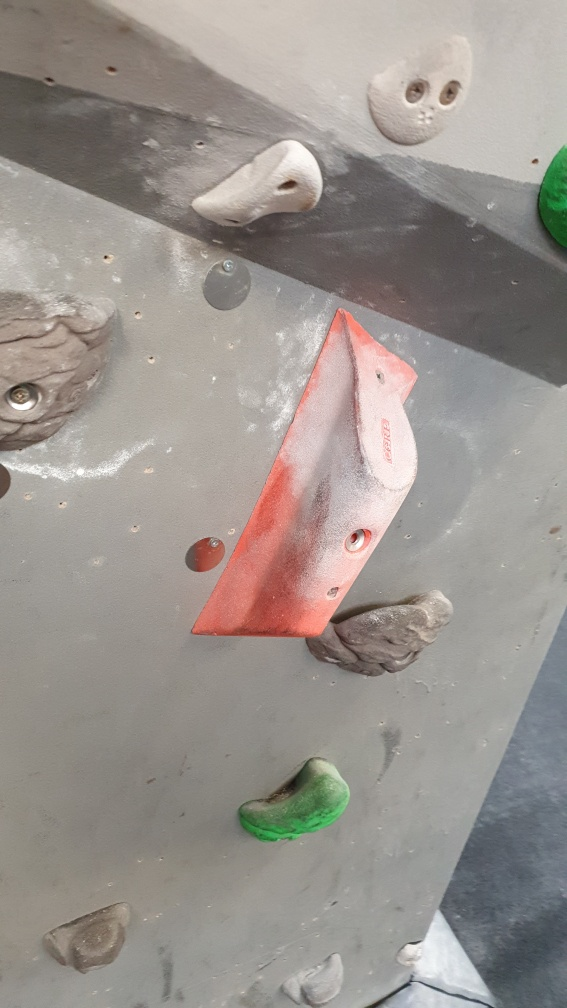Hand Start: (197, 255, 254, 315), (183, 536, 228, 577)
Jug: (1, 285, 121, 459), (302, 587, 456, 678), (233, 751, 352, 845), (278, 951, 345, 1006)
Pinch: (186, 304, 421, 645)
